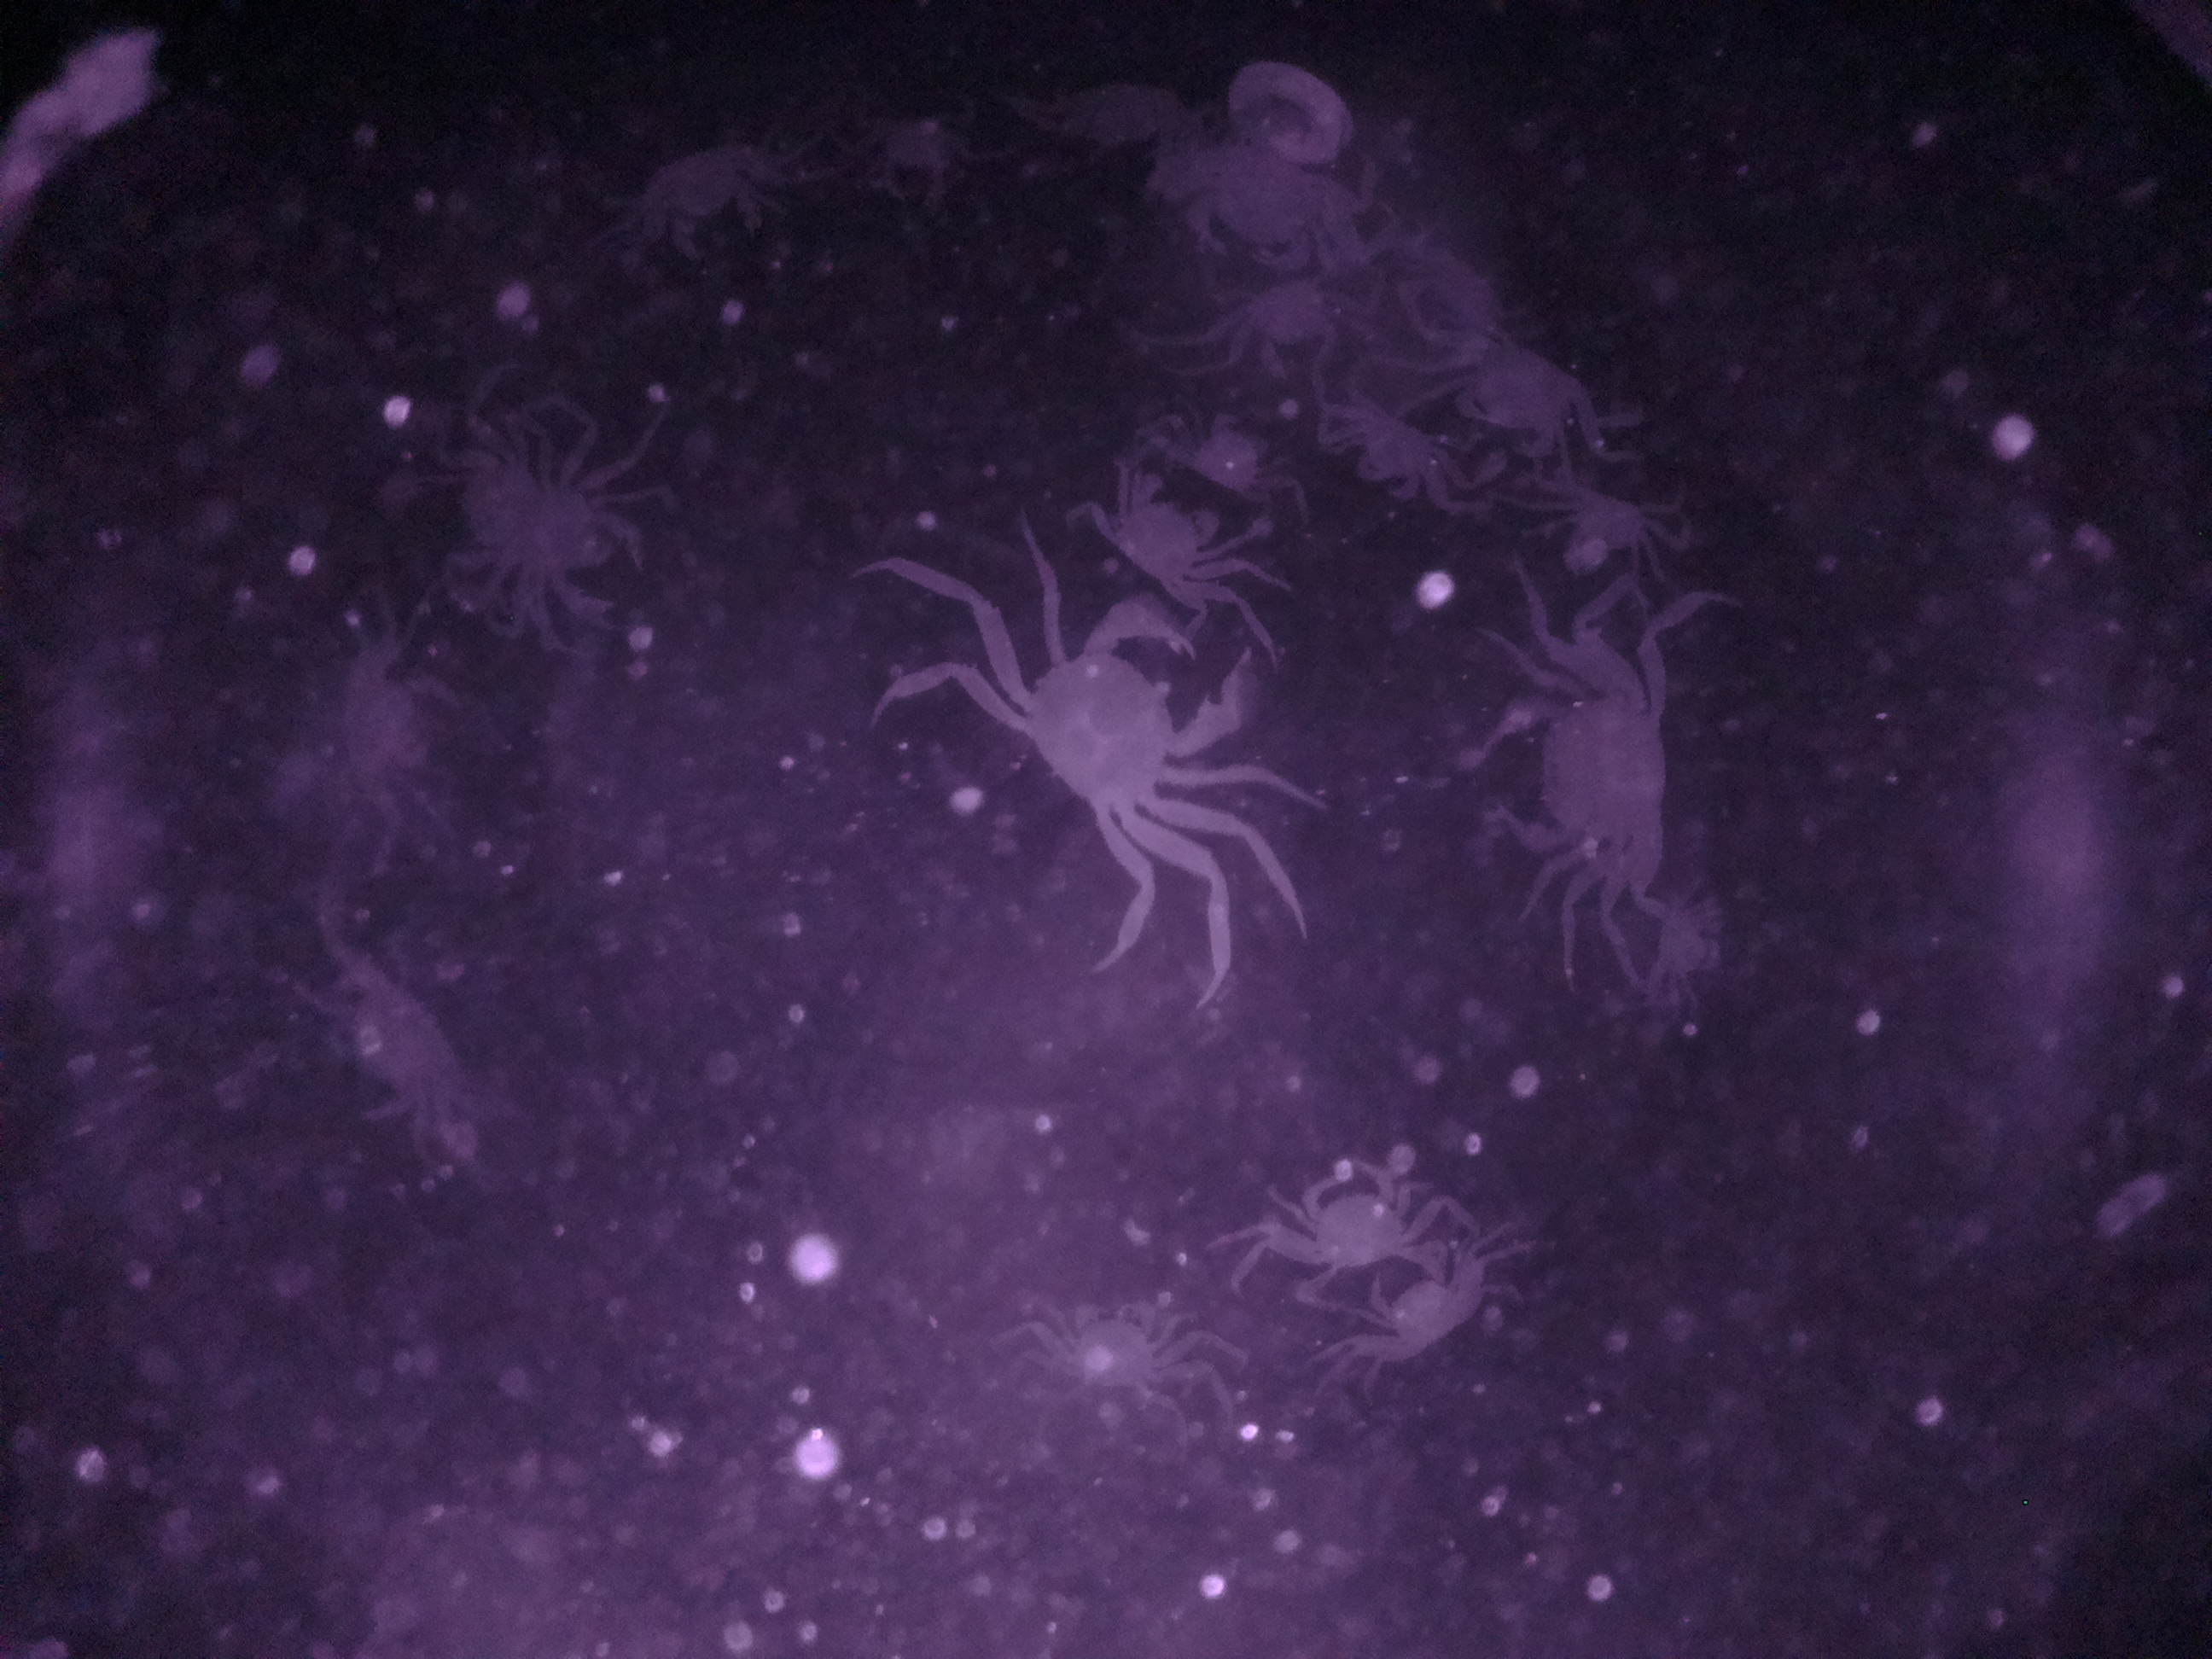Crab: (958, 594, 1271, 871), (1453, 638, 1689, 890), (1068, 460, 1261, 596), (631, 127, 801, 268), (1437, 317, 1609, 457), (1042, 1272, 1193, 1422), (1280, 1141, 1418, 1303), (1217, 254, 1362, 394), (1524, 472, 1683, 572)
